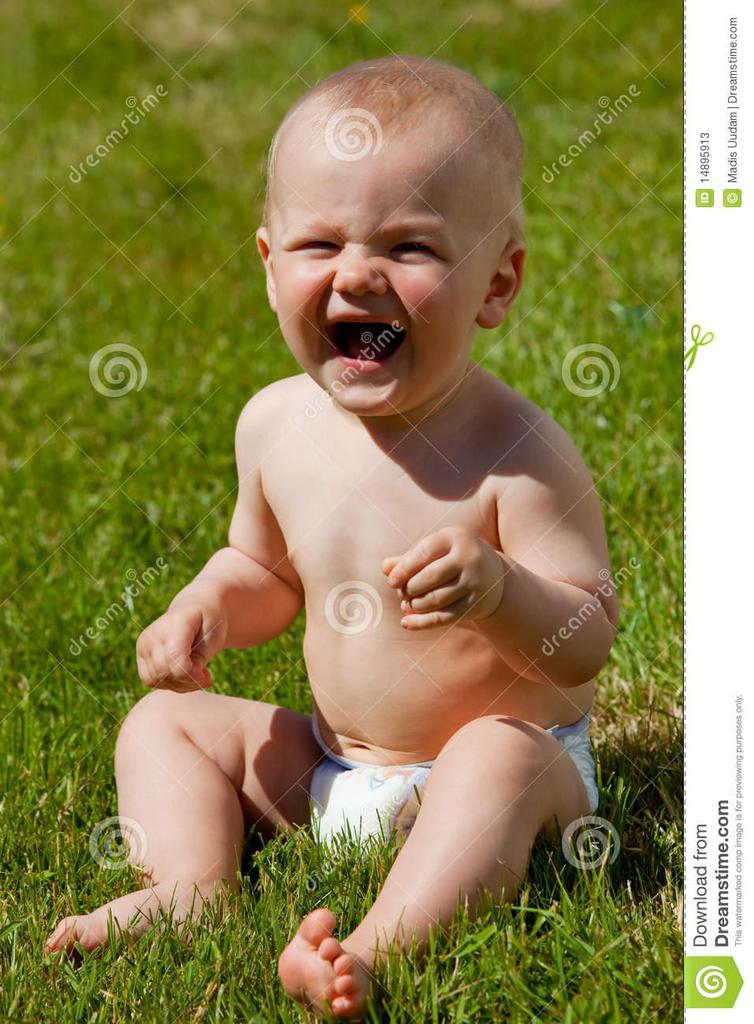child: (55, 62, 637, 1000)
